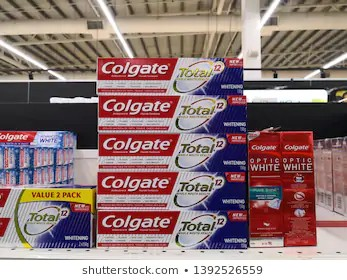colgate-medium: (95, 57, 246, 97), (97, 130, 246, 170), (94, 169, 246, 207), (96, 211, 248, 246), (100, 95, 245, 129)
